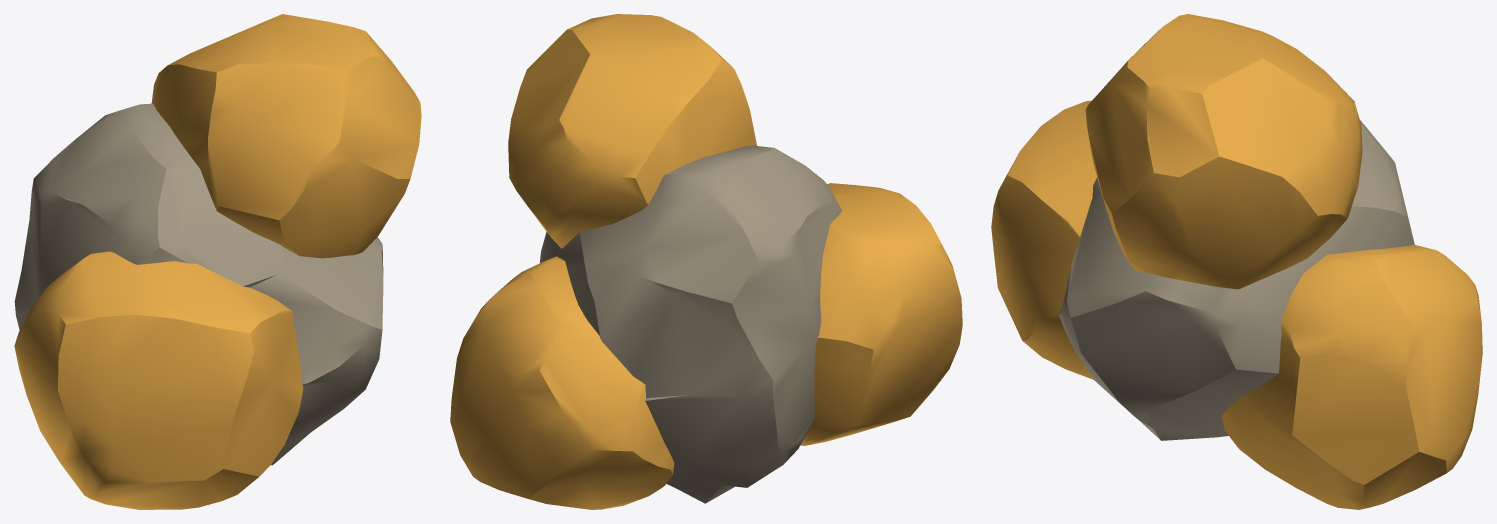
Rendered from gold_ore.glb.
3 renders of one model, left to right at view 1: azimuth 30°, elevation 25°; view 2: azimuth 150°, elevation 25°; view 3: azimuth 270°, elevation 25°, orthographic. The views are drawn at different scales.
Visible parts, largest first — view 1: UI_Gold; view 2: UI_Gold; view 3: UI_Gold.
Boxes of the visible parts, x1,y1,x2,y2 form: UI_Gold: (14,14,421,509); UI_Gold: (450,14,962,509); UI_Gold: (991,14,1482,509).
Bounding box in the file's own units: 0.5752 × 0.6 × 0.5959.
1 material, 1 textured.
